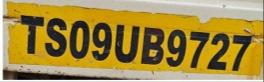0: (68, 18, 91, 62)
2: (211, 31, 231, 74)
7: (232, 32, 254, 76), (188, 28, 209, 71)
9: (91, 19, 113, 65), (166, 27, 187, 70)
B: (140, 23, 165, 71)
S: (45, 14, 68, 62)
T: (20, 10, 45, 57)
U: (114, 20, 141, 67)
